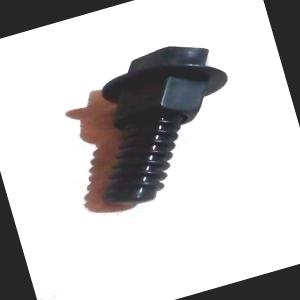parafuso: (62, 30, 254, 212)
